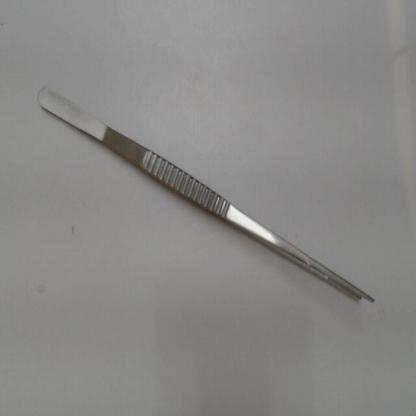DeBakey Dissector: (15, 68, 389, 329)
